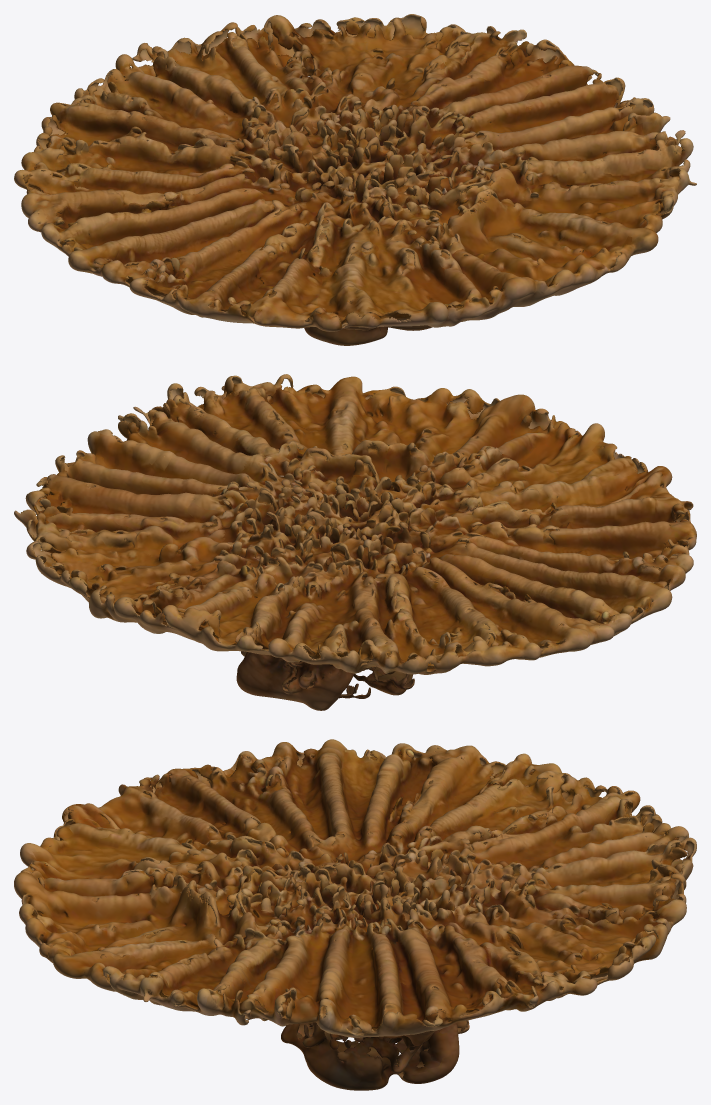
Rendered from coral_plate.glb.
The picture shows the model from 3 angles, top to bottom: view 1: azimuth 30°, elevation 25°; view 2: azimuth 150°, elevation 25°; view 3: azimuth 270°, elevation 25°; orthographic projection. The views are drawn at different scales.
Parts seen in each view (by area): view 1: tripo_node_98f03ac6-d365-4192-b8ac-459b0ddf9cfa; view 2: tripo_node_98f03ac6-d365-4192-b8ac-459b0ddf9cfa; view 3: tripo_node_98f03ac6-d365-4192-b8ac-459b0ddf9cfa.
Part boxes in pixels (<box>): tripo_node_98f03ac6-d365-4192-b8ac-459b0ddf9cfa: <box>14,14,696,345</box>; tripo_node_98f03ac6-d365-4192-b8ac-459b0ddf9cfa: <box>14,374,696,710</box>; tripo_node_98f03ac6-d365-4192-b8ac-459b0ddf9cfa: <box>14,739,696,1090</box>.
Size of the model in its own units: 1 by 0.3032 by 0.9851.
1 material, 1 textured.
